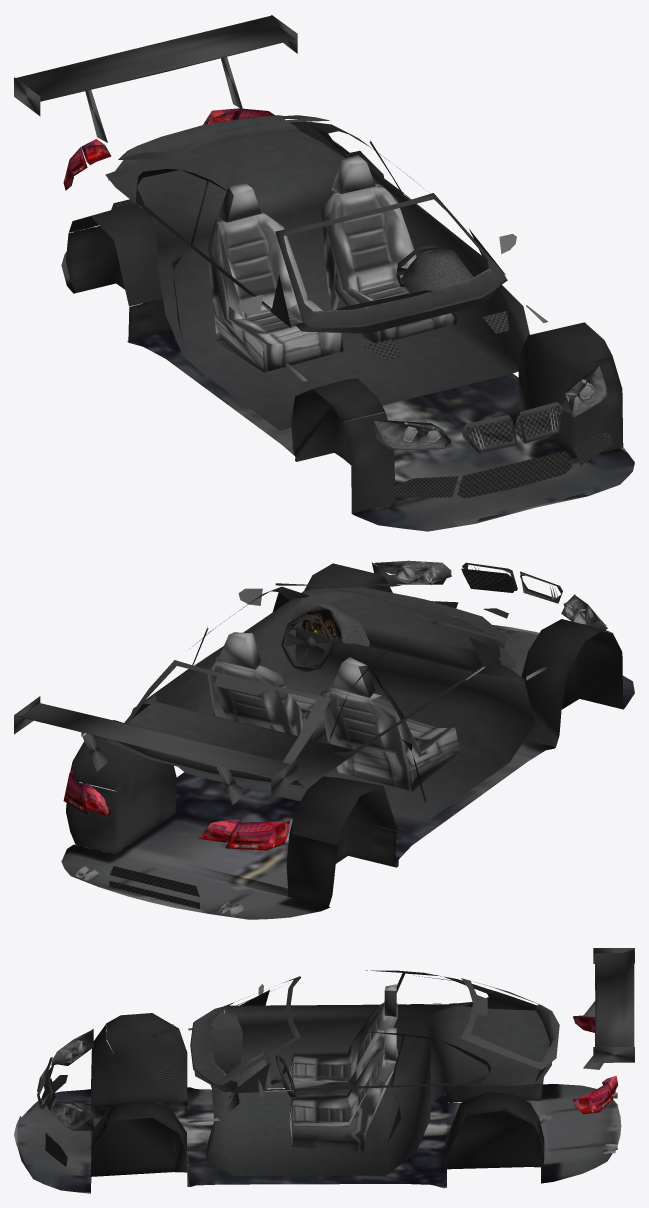
File: XZ_interior_d2.obj
3 renders of one model, top to bottom at view 1: azimuth 30°, elevation 25°; view 2: azimuth 150°, elevation 25°; view 3: azimuth 270°, elevation 25°, orthographic. The views are drawn at different scales.
Parts seen in each view (by area): view 1: XZ_interior; view 2: XZ_interior; view 3: XZ_interior.
Part boxes in pixels (box(x1,y1,x2,y2)): XZ_interior: box(14, 15, 634, 531); XZ_interior: box(14, 560, 634, 919); XZ_interior: box(14, 948, 634, 1193).
Size of the model in its own units: 1.94 by 1.22 by 4.75.
1 material, 1 textured.
